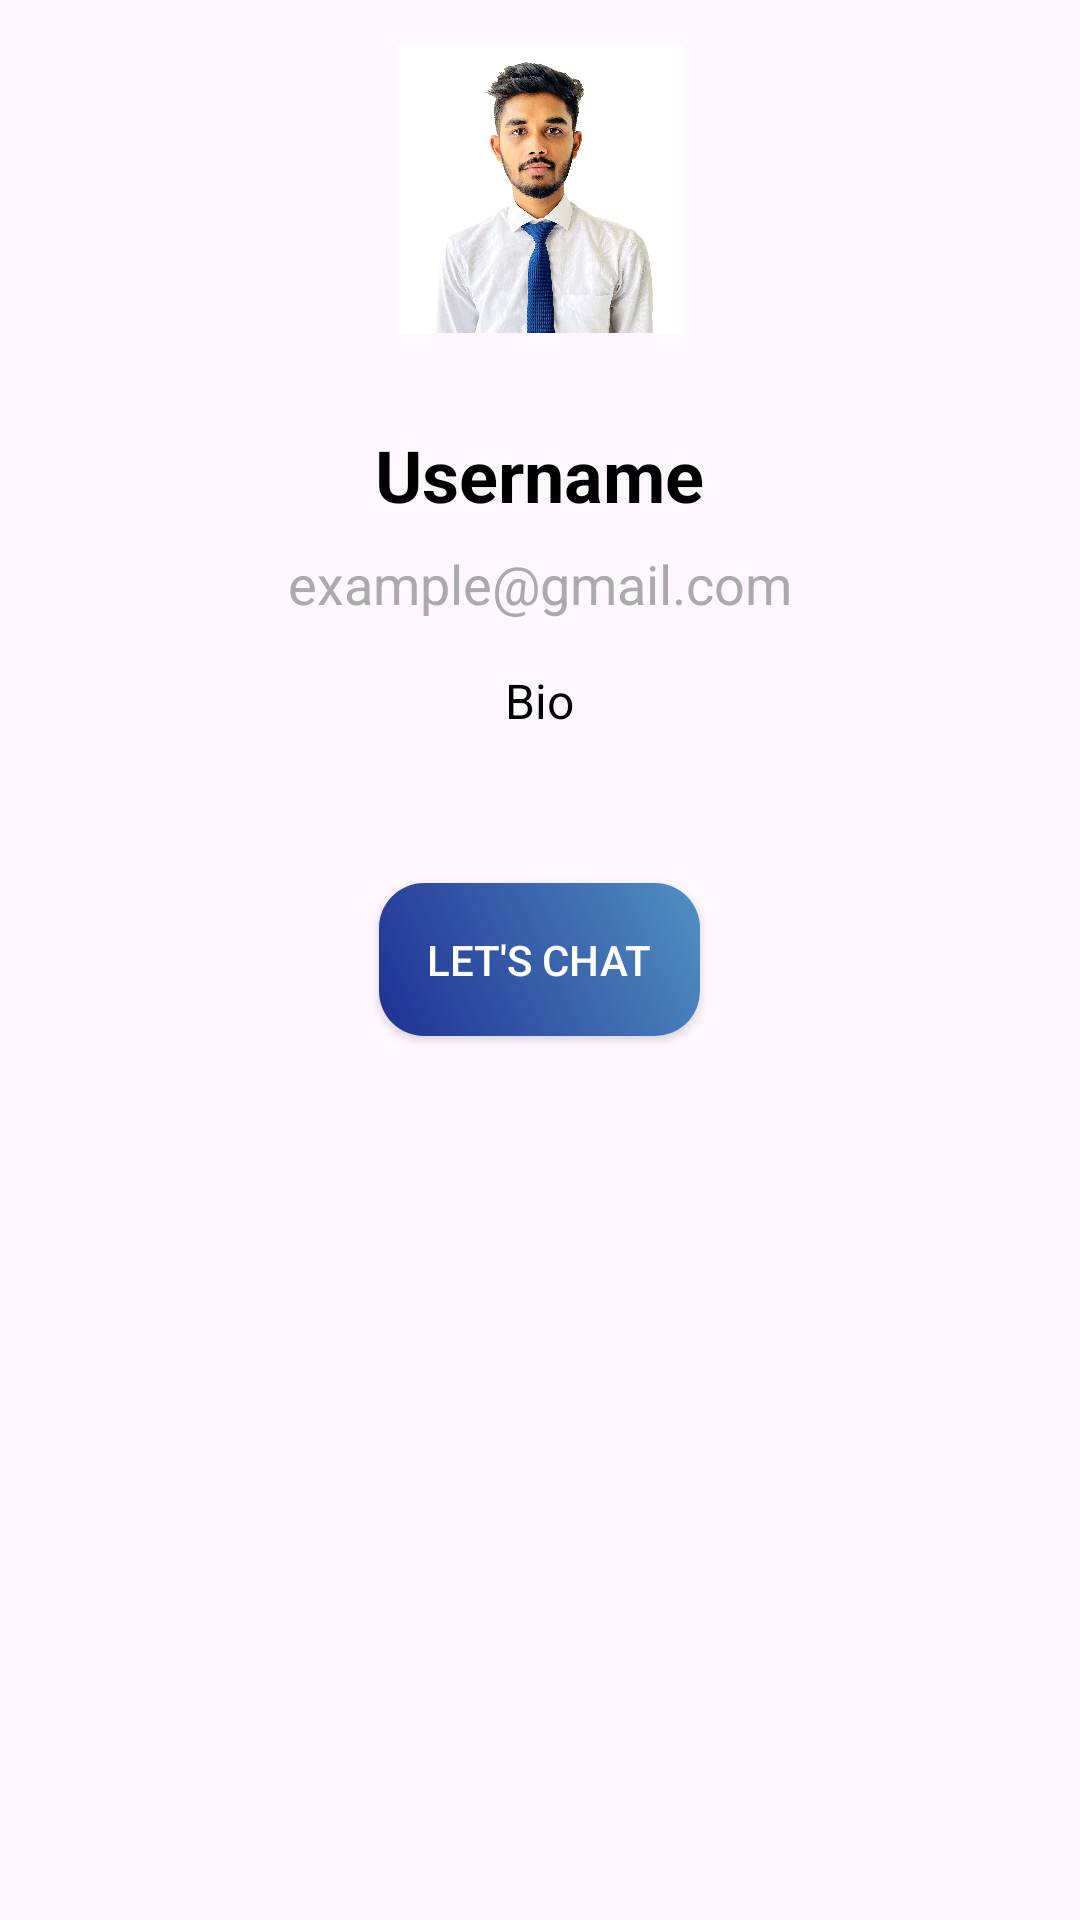

Icons on this 1080w x 1920h Android screen, each with the point to tap as (x=x, y=y):
Profile Image: (x=546, y=197)
